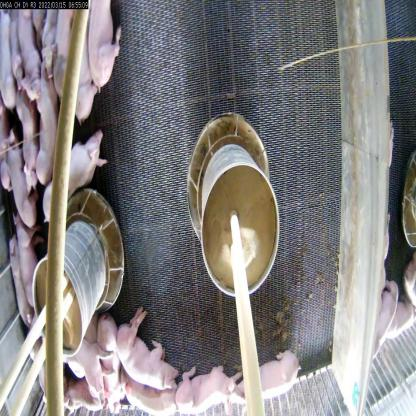Pig: (37, 125, 104, 226), (114, 301, 180, 400), (240, 342, 305, 415), (3, 109, 38, 230), (25, 70, 61, 183), (81, 0, 125, 86), (175, 360, 243, 415), (6, 238, 36, 352), (10, 214, 43, 314), (72, 333, 115, 408), (15, 11, 47, 107), (94, 326, 122, 415), (128, 382, 178, 416)
